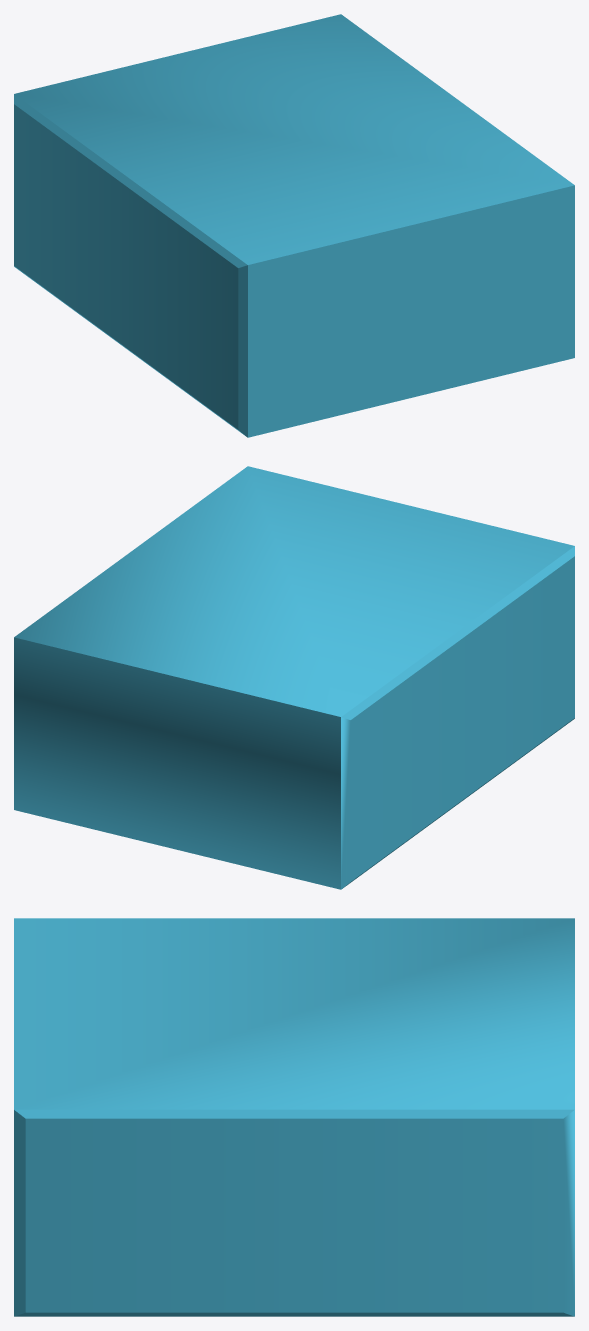
Rendered from Itr_Sofa_Inside_05.FBX.
3 renders of one model, top to bottom at view 1: azimuth 30°, elevation 25°; view 2: azimuth 150°, elevation 25°; view 3: azimuth 270°, elevation 25°, orthographic. The views are drawn at different scales.
Parts seen in each view (by area): view 1: Itr_Sofa_Inside_05; view 2: Itr_Sofa_Inside_05; view 3: Itr_Sofa_Inside_05.
Boxes of the visible parts, <box> form: Itr_Sofa_Inside_05: <box>14,14,574,437</box>; Itr_Sofa_Inside_05: <box>14,466,574,889</box>; Itr_Sofa_Inside_05: <box>14,918,574,1316</box>.
Size of the model in its own units: 25.04 by 12.29 by 30.18.
